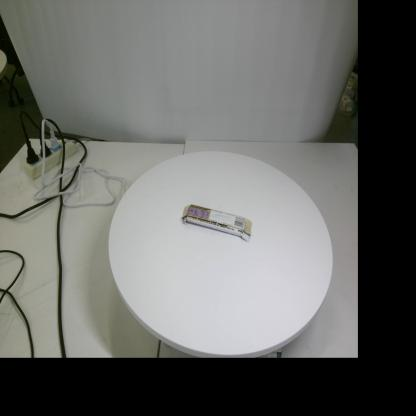Chocolate: (181, 204, 252, 242)
